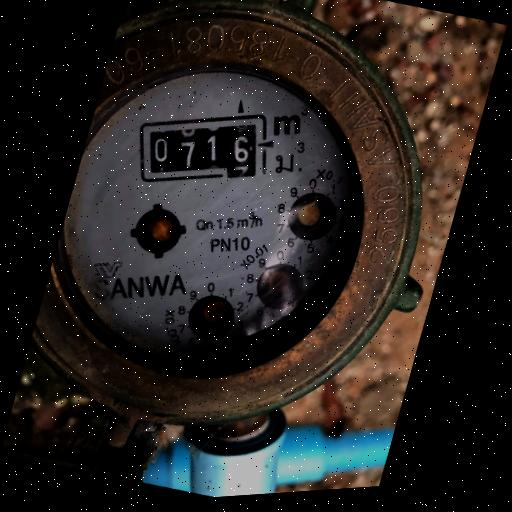0: (138, 123, 183, 179)
1: (187, 117, 237, 176)
6: (210, 114, 269, 187)
7: (160, 120, 210, 179)
border_water_meter_number: (122, 80, 282, 216)
